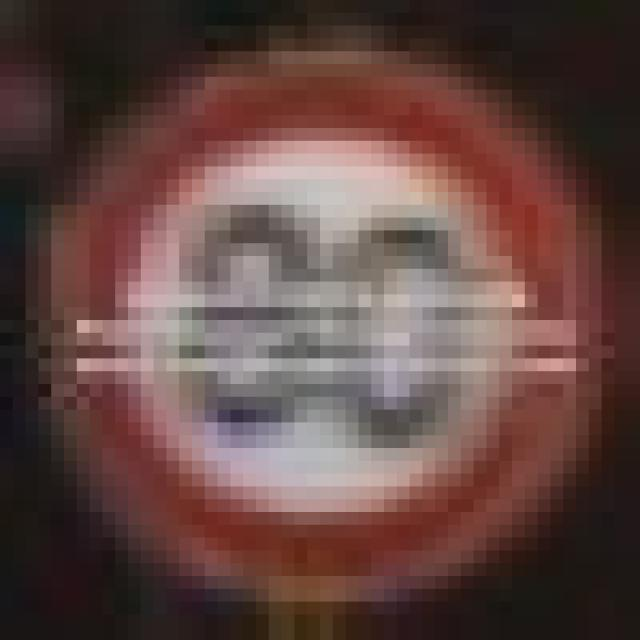speed_limit_50: (26, 38, 588, 614)
